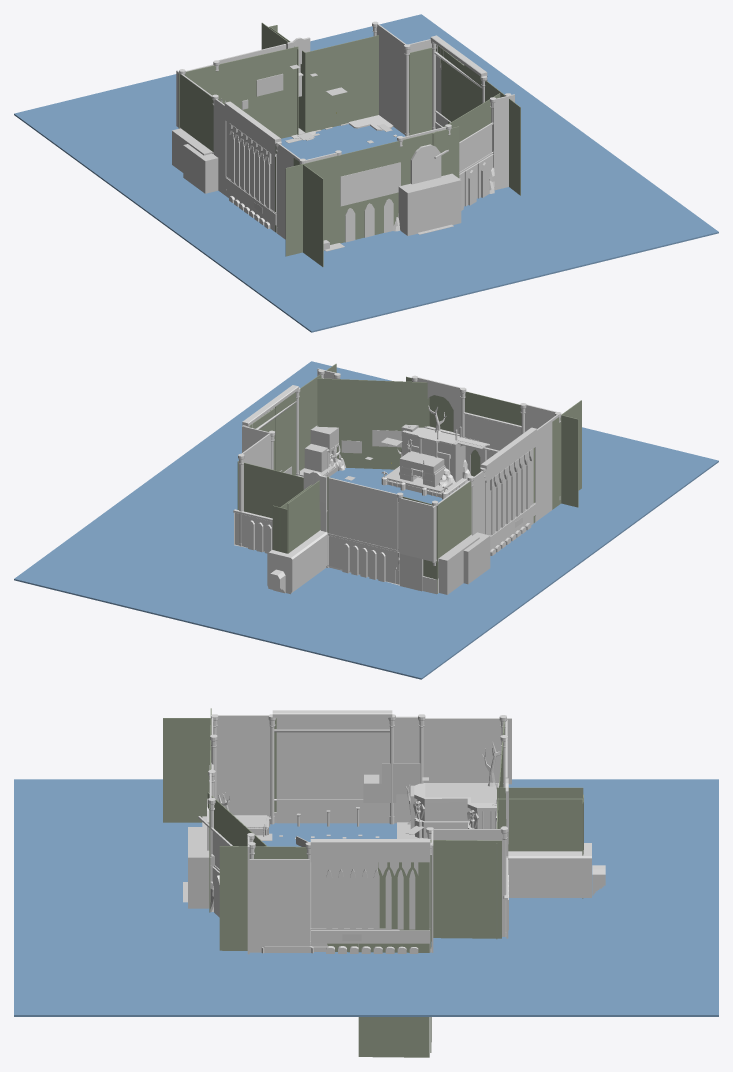
The model's file is SM_jumping pillars.fbx.
3 renders of one model, top to bottom at view 1: azimuth 30°, elevation 25°; view 2: azimuth 150°, elevation 25°; view 3: azimuth 270°, elevation 25°, orthographic. The views are drawn at different scales.
Parts seen in each view (by area): view 1: r__20_, Cube__8__2, Cube__2_, Cube__11__1, r__25__2, Cube.104, Cube.127, Cube__9_, Cube__4__1, Cube__6_, Cube__10__1, Cube.098 (+18 smaller); view 2: r__20_, Cube__7_, Cube.068, Cube.092, Cube__8__2, Cube__6_, Cube__2_, Cube.127, Cube.093, Cube__10__1, Cube__1_, Cube.096 (+21 smaller); view 3: r__20_, Cube.095, Cube__3__1, Cube.110, Cube__5_, Cube.102, Cube.096, Cube.094, Cube__9_, Cube.068, Cube_1, Cube__6_ (+14 smaller).
Part boxes in pixels (x1,y1,x2,y2): r__20_: [14, 14, 718, 332]; Cube__8__2: [285, 126, 459, 256]; Cube__2_: [305, 35, 378, 132]; Cube__11__1: [178, 46, 298, 138]; r__25__2: [398, 173, 461, 235]; Cube.104: [376, 24, 406, 134]; Cube.127: [225, 121, 276, 212]; Cube__9_: [275, 146, 323, 266]; Cube__4__1: [409, 47, 432, 135]; Cube__6_: [464, 65, 520, 195]; Cube__10__1: [179, 74, 213, 151]; Cube.098: [340, 162, 400, 206]; r__20_: [14, 361, 718, 679]; Cube__7_: [317, 378, 429, 469]; Cube.068: [234, 471, 399, 593]; Cube.092: [328, 477, 398, 550]; Cube__8__2: [406, 376, 578, 507]; Cube__6_: [275, 363, 336, 475]; Cube__2_: [244, 462, 303, 518]; Cube.127: [485, 447, 535, 535]; Cube.093: [399, 498, 433, 561]; Cube__10__1: [436, 481, 471, 579]; Cube__1_: [287, 480, 320, 553]; Cube.096: [535, 414, 558, 521]; r__20_: [14, 779, 718, 1016]; Cube.095: [276, 715, 395, 823]; Cube__3__1: [433, 840, 501, 938]; Cube.110: [311, 862, 430, 929]; Cube__5_: [358, 862, 429, 1057]; Cube.102: [249, 859, 309, 952]; Cube.096: [216, 715, 270, 817]; Cube.094: [423, 718, 511, 784]; Cube__9_: [163, 718, 276, 822]; Cube.068: [502, 778, 591, 938]; Cube_1: [498, 798, 583, 851]; Cube__6_: [219, 846, 358, 952].
Bounding box in the file's own units: 60072 × 25672 × 75943.
